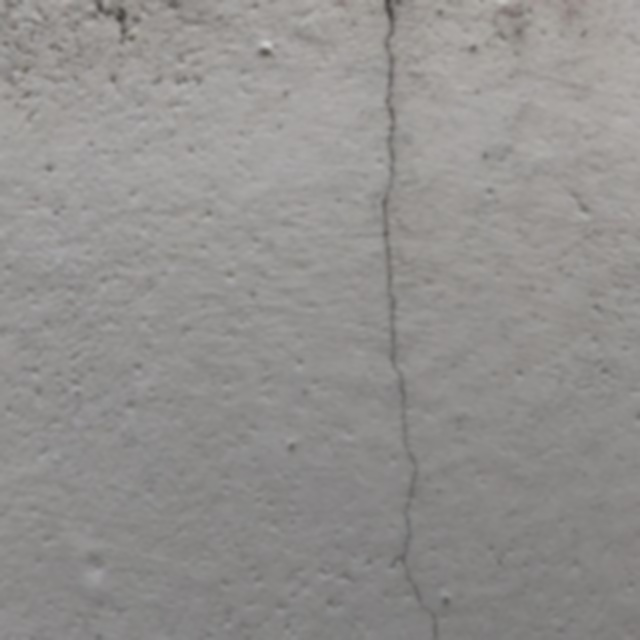SurfaceCrack: (339, 1, 465, 640)
